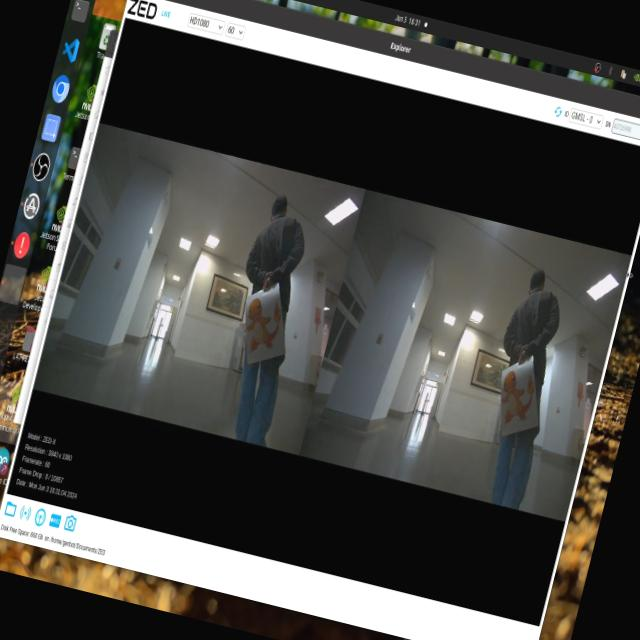red: (232, 287, 288, 365), (494, 358, 544, 434)
